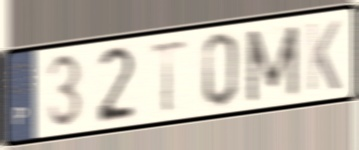0: (200, 29, 241, 112)
2: (94, 43, 140, 128)
3: (45, 50, 85, 132)
K: (304, 17, 343, 94)
M: (243, 22, 302, 106)
T: (147, 36, 191, 117)
